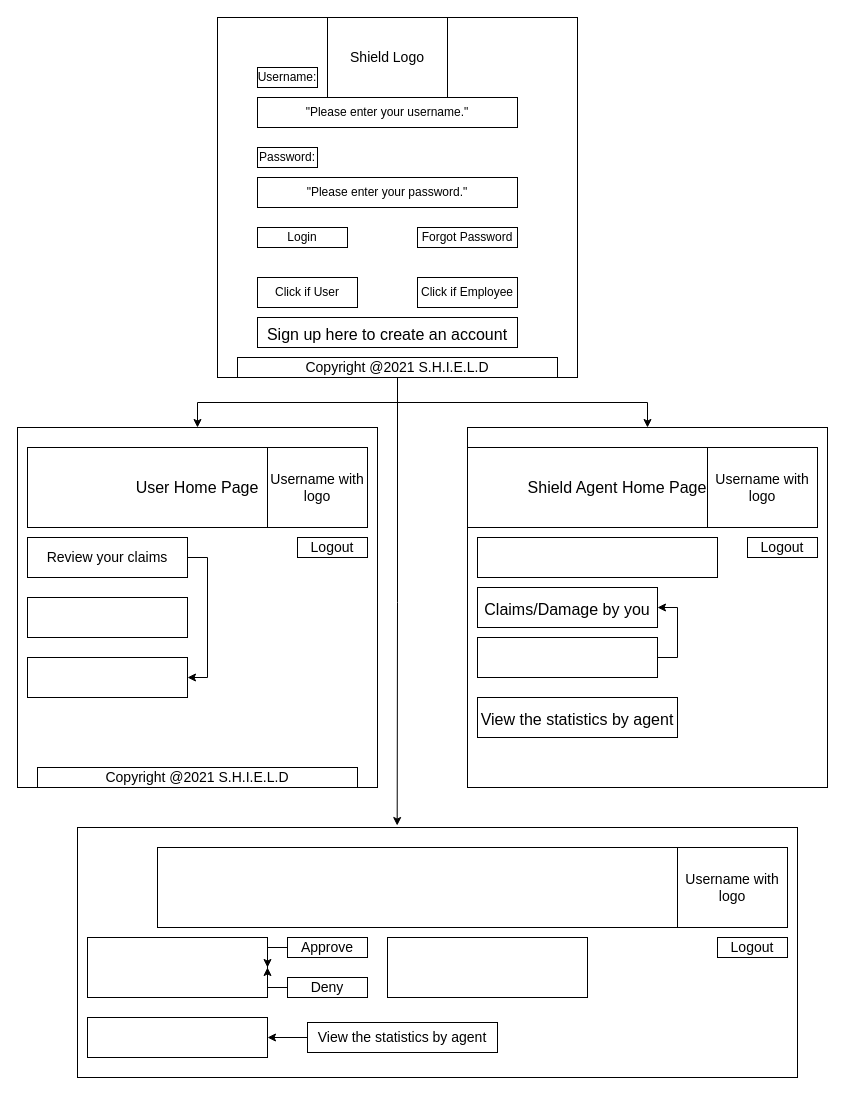
Some shapes in this 845 by 1095 pixel diagram are drawn without their labels. The shapes that lost their labels are listed below. From the top down, each one's centre as x and y in pixels, then its label:
pixel 597 557: Glorious Leaderboard of Damage
pixel 107 617: Submit brand new claim
pixel 107 677: View your own claims
pixel 567 657: View the pending claims
pixel 432 887: Compensation Agent Home Page
pixel 177 967: Pending Claims
pixel 487 967: Previous Pending Claims by User_ID
pixel 177 1037: Email to the User
